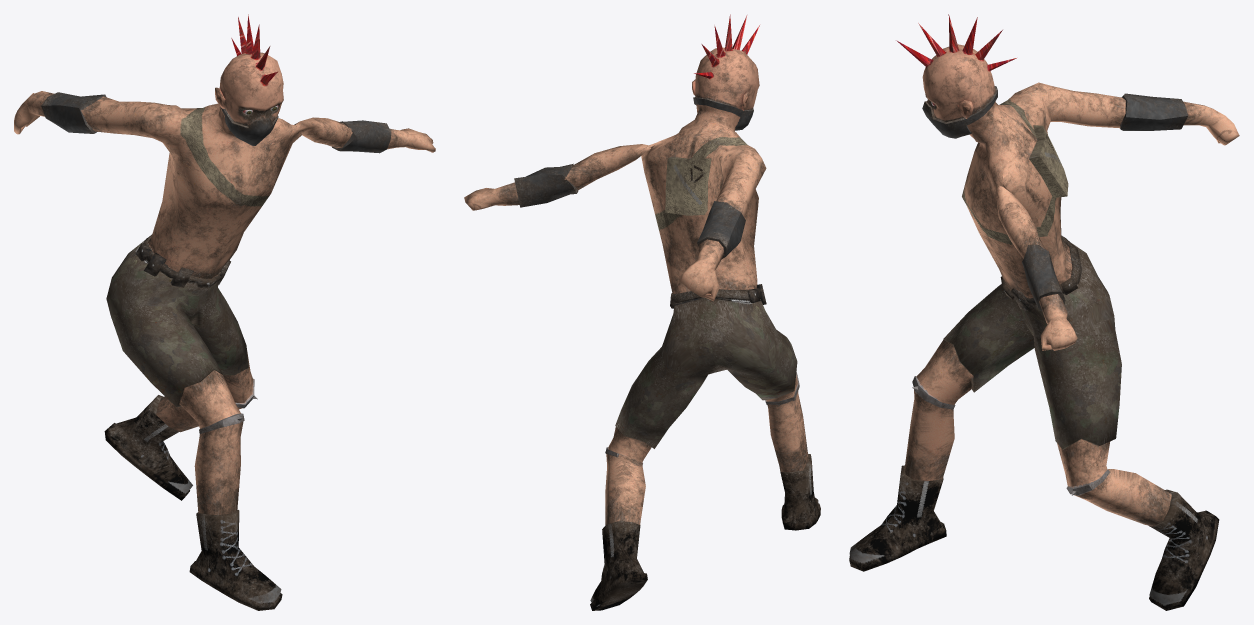
The model's file is Anim_arma_c_npc2.0031.obj.
3 views of the same model, side by side, from view 1: azimuth 30°, elevation 25°; view 2: azimuth 150°, elevation 25°; view 3: azimuth 270°, elevation 25° (orthographic). The views are drawn at different scales.
Parts seen in each view (by area): view 1: polySurface1; view 2: polySurface1; view 3: polySurface1.
Part boxes in pixels (x1=…): polySurface1: x1=14, y1=14, x2=435, y2=610; polySurface1: x1=464, y1=14, x2=820, y2=610; polySurface1: x1=849, y1=14, x2=1239, y2=610.
Bounding box in the file's own units: 5.96 × 9.3 × 5.66.
